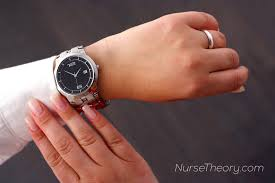clock: (57, 56, 94, 93)
